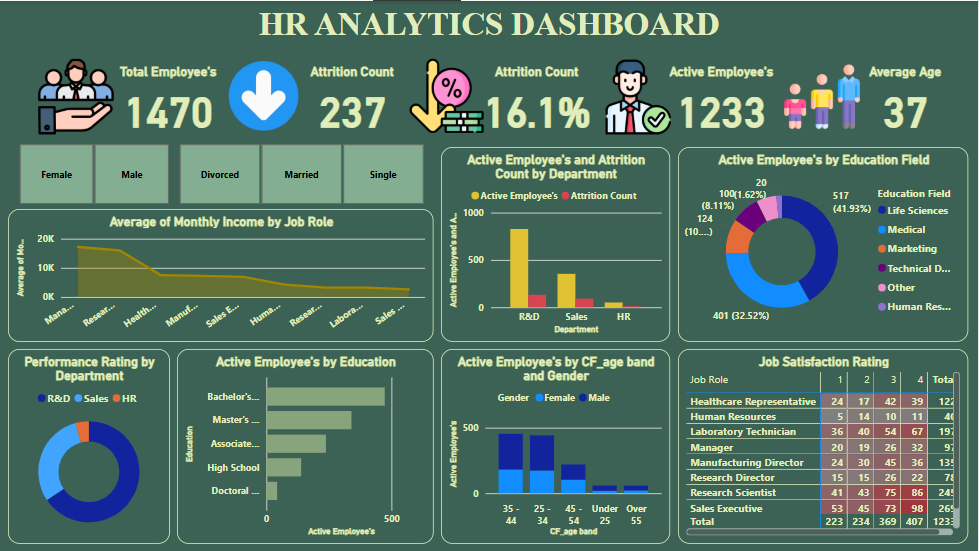

The dashboard page shown, as its layout file describes it:
{"tool":"powerbi","page":{"name":"Page 1","canvas":[1280,720],"ordinal":0},"visuals":[{"type":"card","title":"Total Employee''s","fields":{"Values":["Sum(Sample_HR_Data.Employee Count)"]},"box":[136.8,82.1,165.6,95],"z":0,"group":"g1"},{"type":"clusteredColumnChart","fields":{"Category":["Sample_HR_Data.Department"],"Y":["Sample_HR_Data.Active Employee's","Sum(Sample_HR_Data.Attrition Count)"]},"box":[577.4,191.5,299.5,254.9],"z":0,"group":"g2"},{"type":"card","title":"Attrition Count","fields":{"Values":["Sum(Sample_HR_Data.Attrition Count)"]},"box":[377.6,82.1,165.6,95],"z":1000,"group":"g1"},{"type":"donutChart","fields":{"Y":["Sample_HR_Data.Active Employee's"],"Category":["Sample_HR_Data.Education Field"]},"box":[887,191.5,380.2,254.9],"z":1000,"group":"g2"},{"type":"card","title":"Active Employee''s","fields":{"Values":["Sample_HR_Data.Active Employee's"]},"box":[860.8,82.1,165.6,95],"z":2000,"group":"g1"},{"type":"columnChart","fields":{"Y":["Sample_HR_Data.Active Employee's"],"Category":["Sample_HR_Data.CF_age band"],"Series":["Sample_HR_Data.Gender"]},"box":[577.4,455,299.5,254.9],"z":2000,"group":"g2"},{"type":"card","title":"Average Age","fields":{"Values":["Avg(Sample_HR_Data.Age)"]},"box":[1101.6,82.1,165.6,95],"z":3000,"group":"g1"},{"type":"pivotTable","title":"Job Satisfaction Rating","fields":{"Rows":["Sample_HR_Data.Job Role"],"Columns":["Sample_HR_Data.Job Satisfaction"],"Values":["Sample_HR_Data.Active Employee's"]},"box":[887,455,380.2,254.9],"z":3000,"group":"g2"},{"type":"card","title":"Attrition Count","fields":{"Values":["Sample_HR_Data.Attrition Rate"]},"box":[618.5,82.1,167,95],"z":4000,"group":"g1"},{"type":"donutChart","fields":{"Y":["Sum(Sample_HR_Data.Performance Rating)"],"Category":["Sample_HR_Data.Department"]},"box":[10.1,455,211.7,254.9],"z":4000,"group":"g2"},{"type":"clusteredBarChart","fields":{"Category":["Sample_HR_Data.Education"],"Y":["Sample_HR_Data.Active Employee's"]},"box":[231.8,455,335.5,254.9],"z":5000,"group":"g2"},{"type":"areaChart","fields":{"Category":["Sample_HR_Data.Job Role"],"Y":["Avg(Sample_HR_Data.Monthly Income)"]},"box":[10.1,272.2,557.3,174.2],"z":6000,"group":"g2"},{"type":"slicer","fields":{"Values":["Sample_HR_Data.Gender"]},"box":[0,180,244.8,92.2],"z":7000,"group":"g2"},{"type":"slicer","fields":{"Values":["Sample_HR_Data.Marital Status"]},"box":[208.8,180,368.6,92.2],"z":8000,"group":"g2"},{"type":"group","id":"g1","title":"Group 1","box":[136.8,82.1,1130.4,95],"z":9000,"group":"g2"},{"type":"textbox","box":[0,0,1280.2,70.6],"z":10000,"group":"g2"},{"type":"image","box":[1015.2,70.6,123.8,109.4],"z":11000,"group":"g2"},{"type":"image","box":[521.3,70.6,108,106.6],"z":12000,"group":"g2"},{"type":"image","box":[294.5,70.6,100.8,106.6],"z":13000,"group":"g2"},{"type":"image","box":[37.4,70.6,122.4,109.4],"z":15000,"group":"g2"},{"type":"image","box":[781.9,70.6,108,109.4],"z":15001,"group":"g2"},{"type":"group","id":"g2","title":"Group 2","box":[0,0,1280.2,709.9],"z":15002}]}

Visuals, with their boxes in screenshot pixels (x1, y1, x2, y2), scaled from the page's 1280x720 canvas onto the 979x551 screenshot:
"Total Employee''s" card: [105,63,231,136]
clusteredColumnChart - Sample_HR_Data.Department x Sample_HR_Data.Active Employee's: [442,147,671,342]
"Attrition Count" card: [289,63,415,136]
donutChart - Sample_HR_Data.Active Employee's x Sample_HR_Data.Education Field: [678,147,969,342]
"Active Employee''s" card: [658,63,785,136]
columnChart - Sample_HR_Data.Active Employee's x Sample_HR_Data.CF_age band: [442,348,671,543]
"Average Age" card: [843,63,969,136]
"Job Satisfaction Rating" pivotTable: [678,348,969,543]
"Attrition Count" card: [473,63,601,136]
donutChart - Sum(Sample_HR_Data.Performance Rating) x Sample_HR_Data.Department: [8,348,170,543]
clusteredBarChart - Sample_HR_Data.Education x Sample_HR_Data.Active Employee's: [177,348,434,543]
areaChart - Sample_HR_Data.Job Role x Avg(Sample_HR_Data.Monthly Income): [8,208,434,342]
slicer - Sample_HR_Data.Gender: [0,138,187,208]
slicer - Sample_HR_Data.Marital Status: [160,138,442,208]
"Group 1" group: [105,63,969,136]
textbox: [0,0,978,54]
image: [776,54,871,138]
image: [399,54,481,136]
image: [225,54,302,136]
image: [29,54,122,138]
image: [598,54,681,138]
"Group 2" group: [0,0,978,543]
